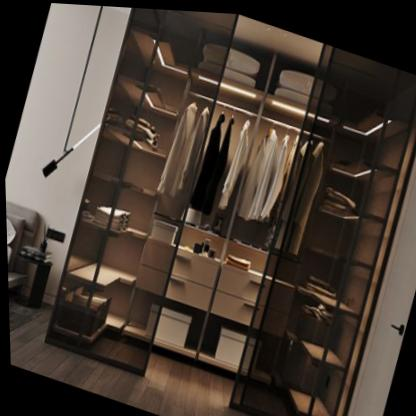Transparent Closet: (42, 6, 416, 416)
